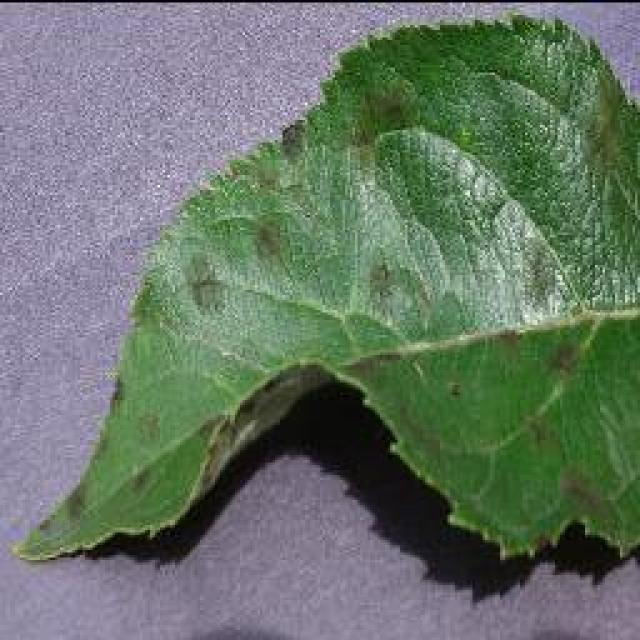apple scab disease: (12, 10, 638, 578)
